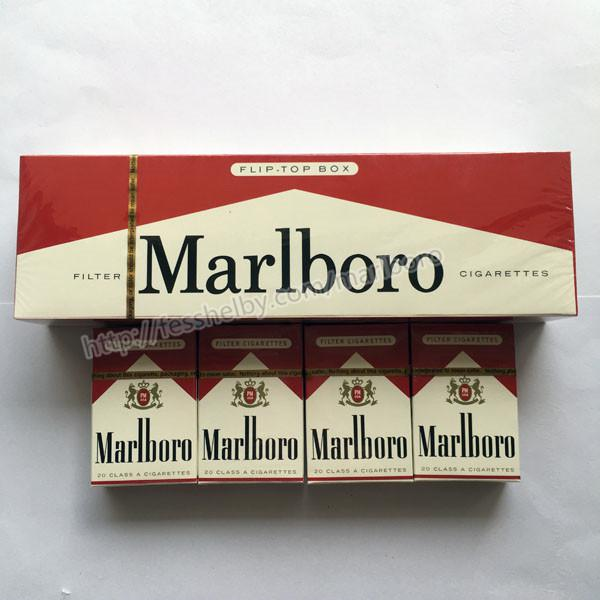marlboro_red: (307, 324, 415, 484), (196, 322, 304, 482), (414, 322, 519, 481), (94, 326, 197, 484)
